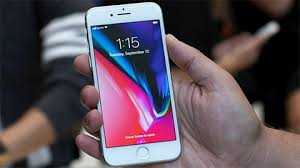iphone: (82, 1, 181, 168)
iphone8: (82, 1, 181, 168)
